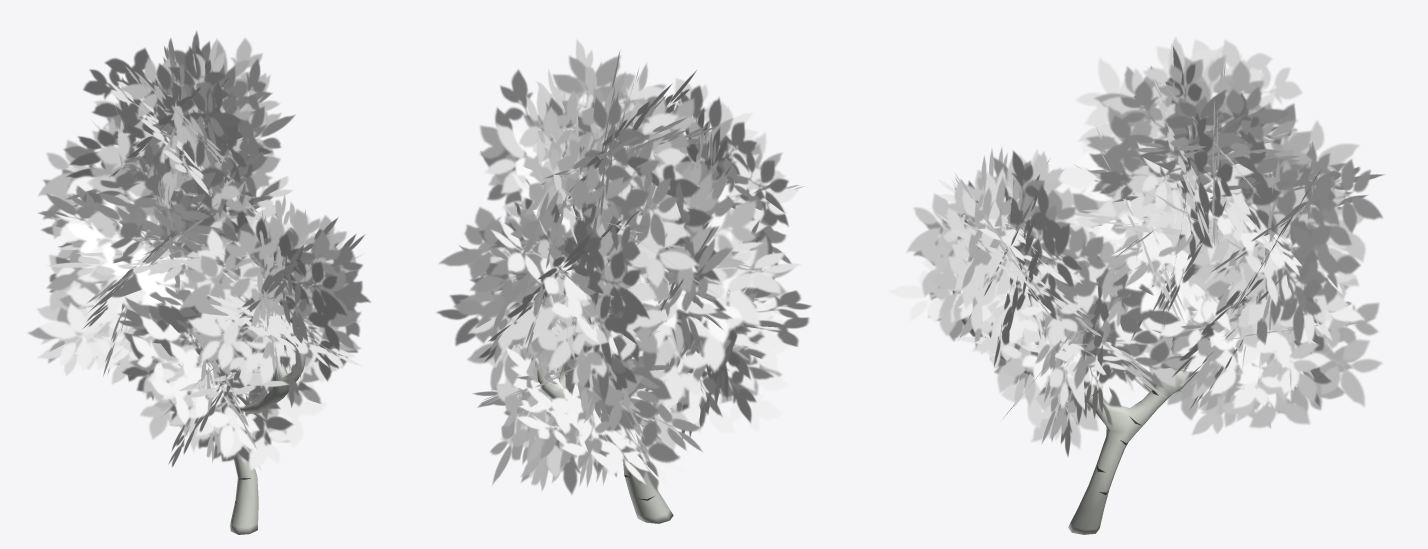
File: tree_stylized_7.glb
3 renders of one model, left to right at view 1: azimuth 30°, elevation 25°; view 2: azimuth 150°, elevation 25°; view 3: azimuth 270°, elevation 25°, orthographic. The views are drawn at different scales.
Visible parts, largest first — view 1: Canopy, BirchTree_Dead_4; view 2: Canopy, BirchTree_Dead_4; view 3: Canopy, BirchTree_Dead_4.
Boxes of the visible parts, x1,y1,x2,y2 form: Canopy: (28, 30, 370, 470); BirchTree_Dead_4: (123, 174, 305, 534); Canopy: (436, 39, 811, 494); BirchTree_Dead_4: (532, 204, 722, 523); Canopy: (888, 36, 1384, 456); BirchTree_Dead_4: (952, 260, 1304, 534).
Bounding box in the file's own units: 2.54 × 3.85 × 3.73.
Materials: 3 (1 with a texture image).
